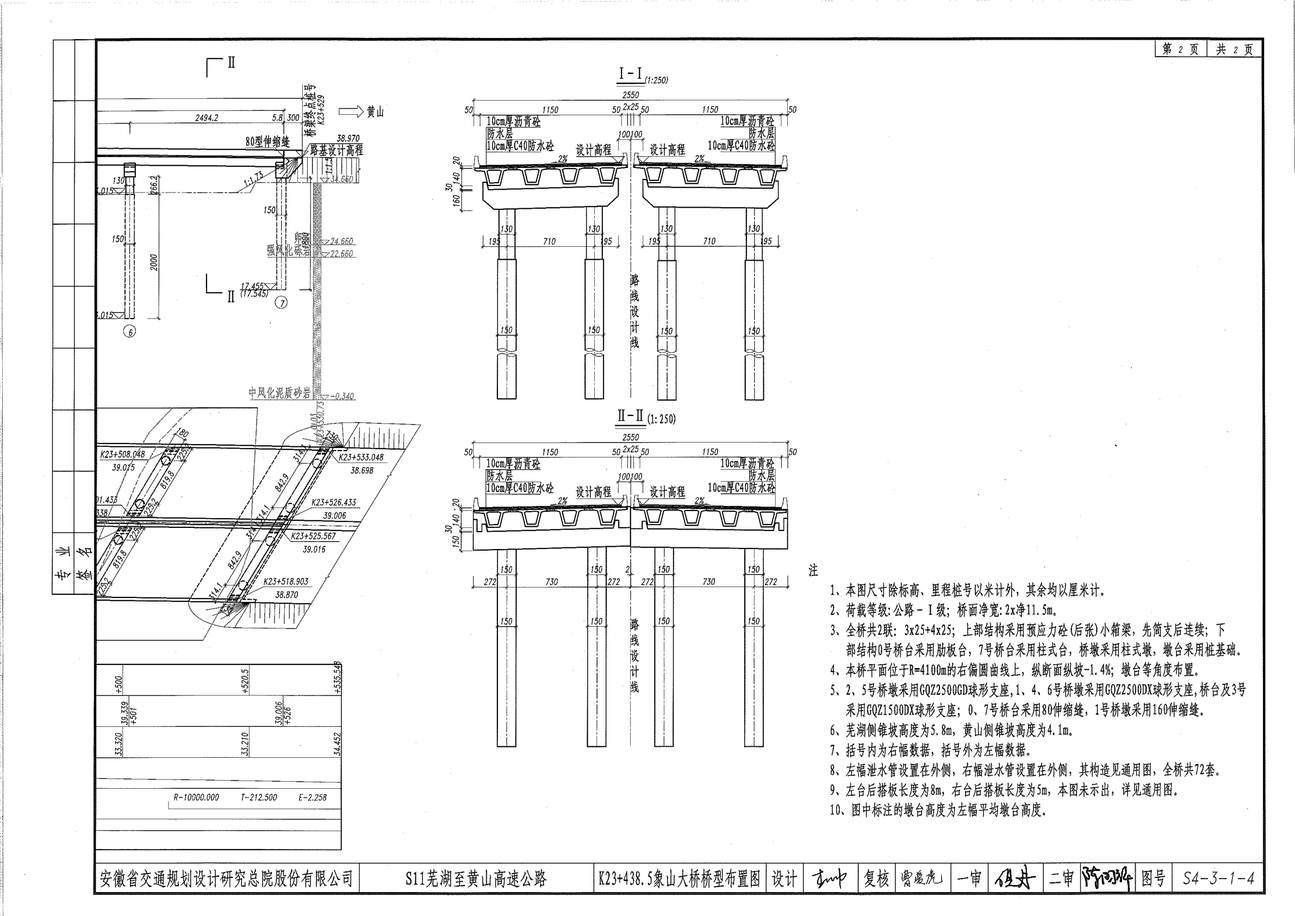A: (83, 53, 402, 345)
